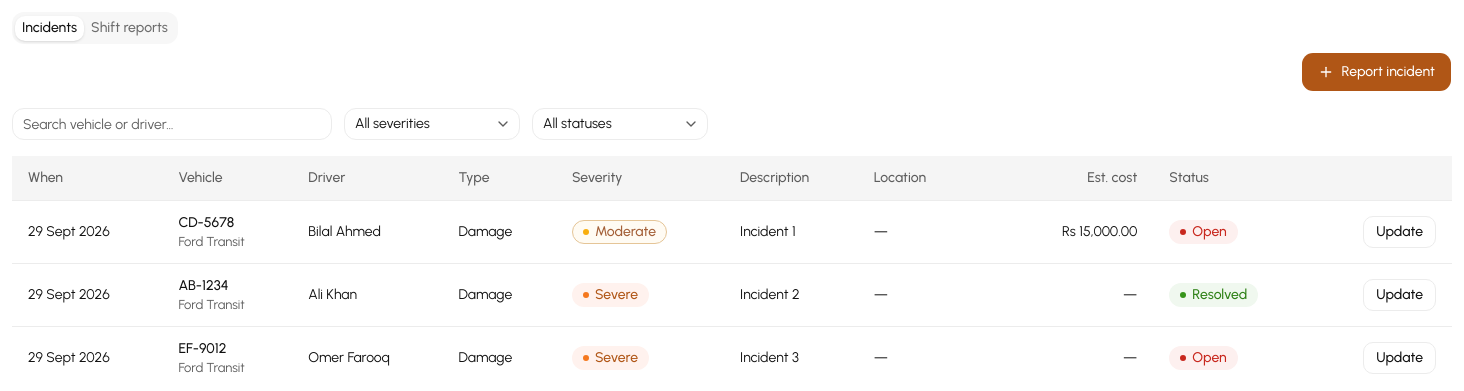
Incident filters › filters by severity and by status, and the two combine
The width and height of the screenshot is (1464, 391).
Click the dropdown named "Filter by severity" at (432, 124), box [344,108,520,140]
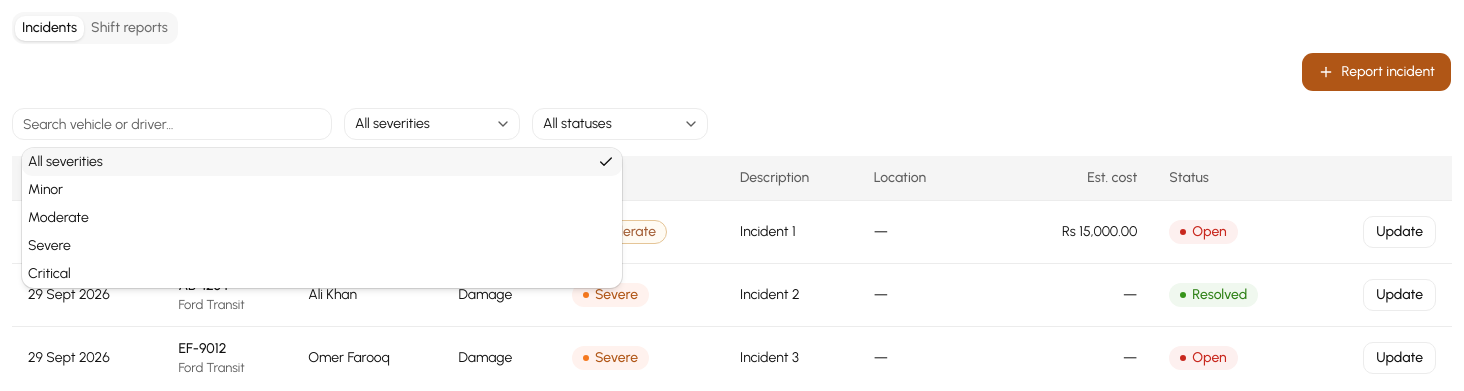
Click the option "Severe" at (49, 246), box [28,237,71,254]
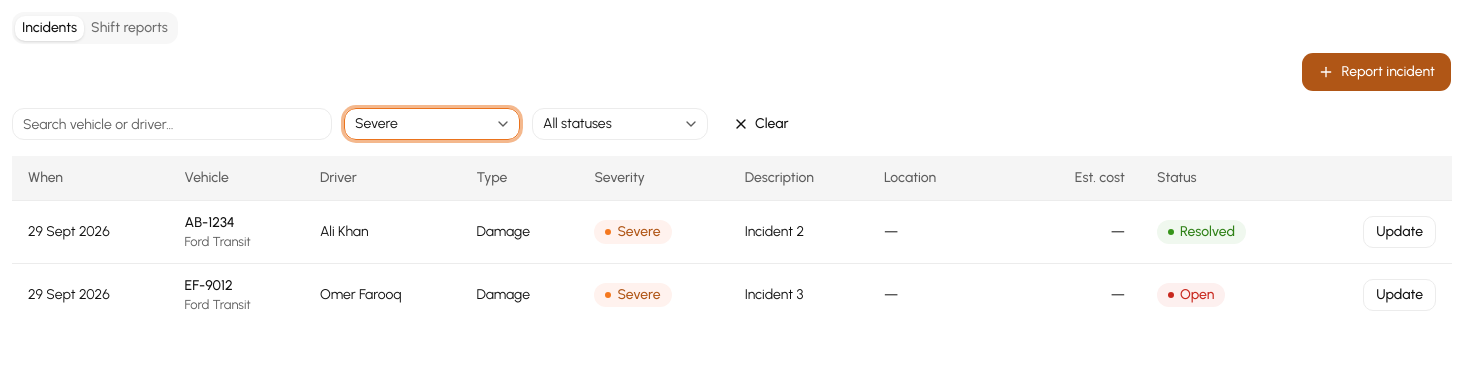
Check: the text "Incident 2" is shown, box [745,222,804,240]
Check: the text "Incident 1" is gone
Click the dropdown named "Filter by status" at (620, 124), box [532,108,708,140]
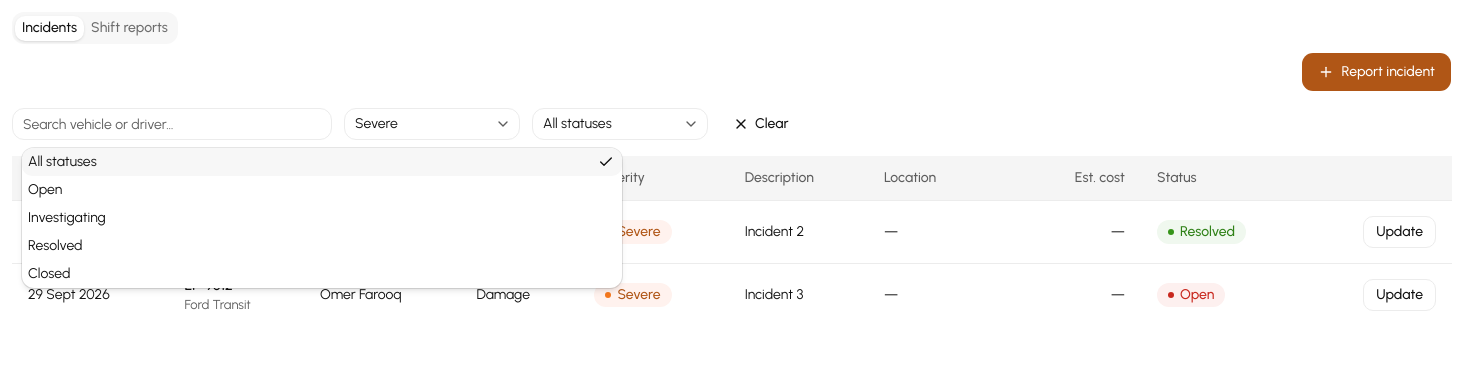
Click the option "Open" at (45, 190), box [28,181,62,198]
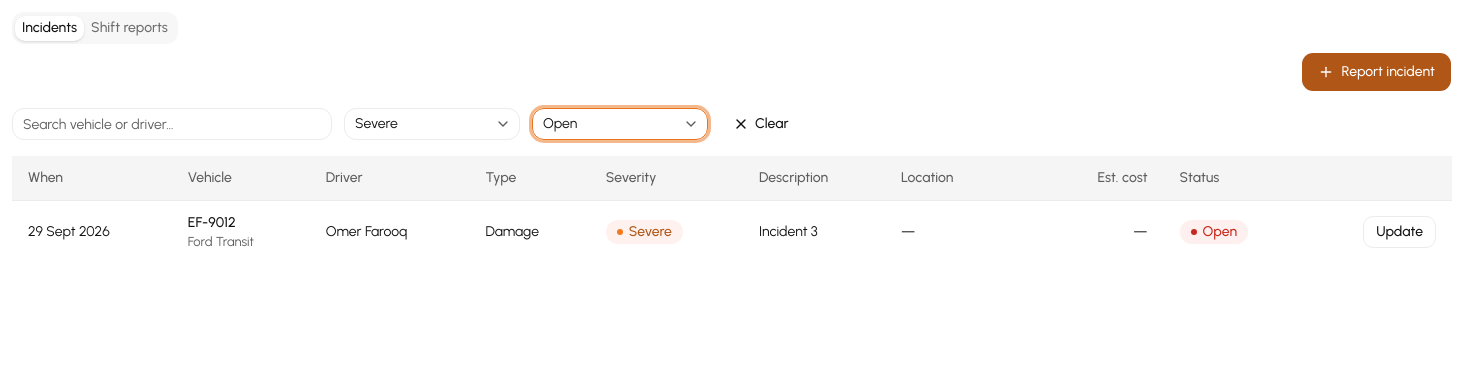
Check: the text "Incident 3" is shown, box [759,222,818,240]
Check: the text "Incident 2" is gone
